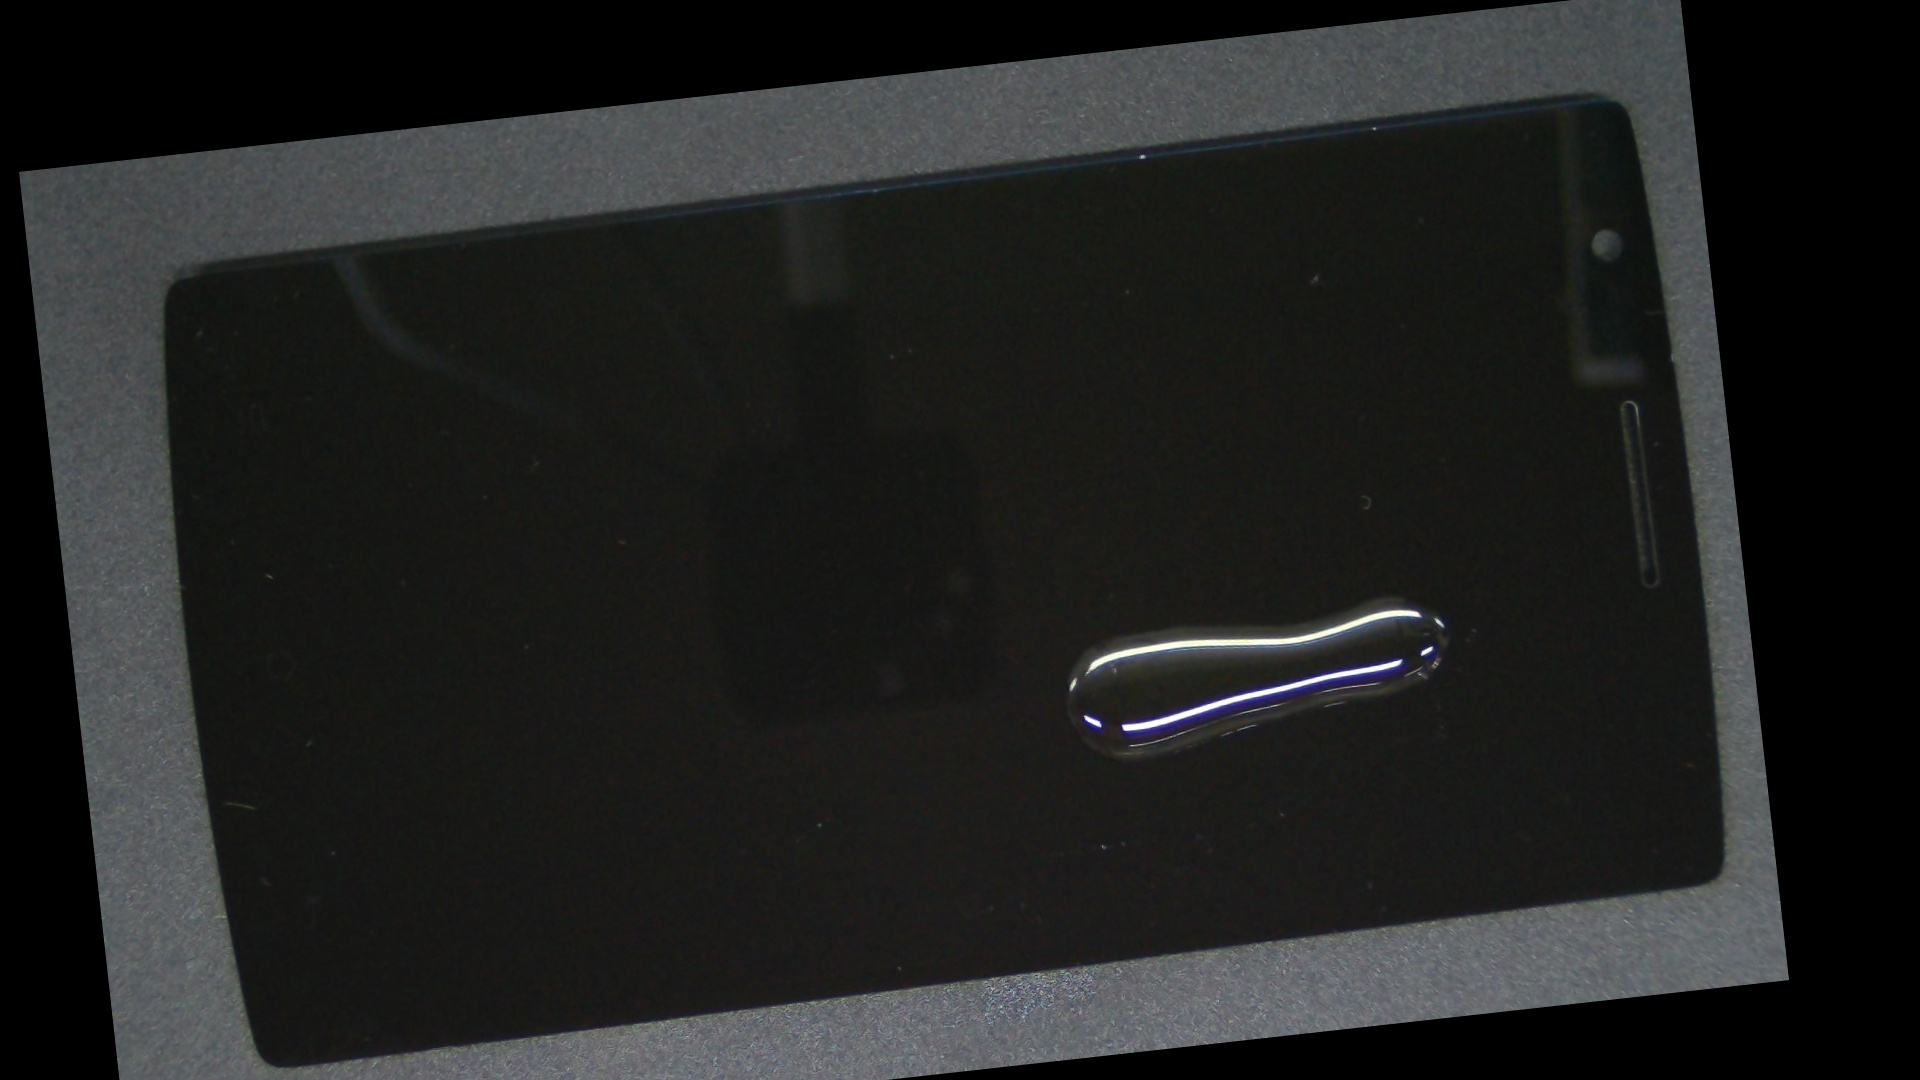oil: (703, 273, 1774, 957)
